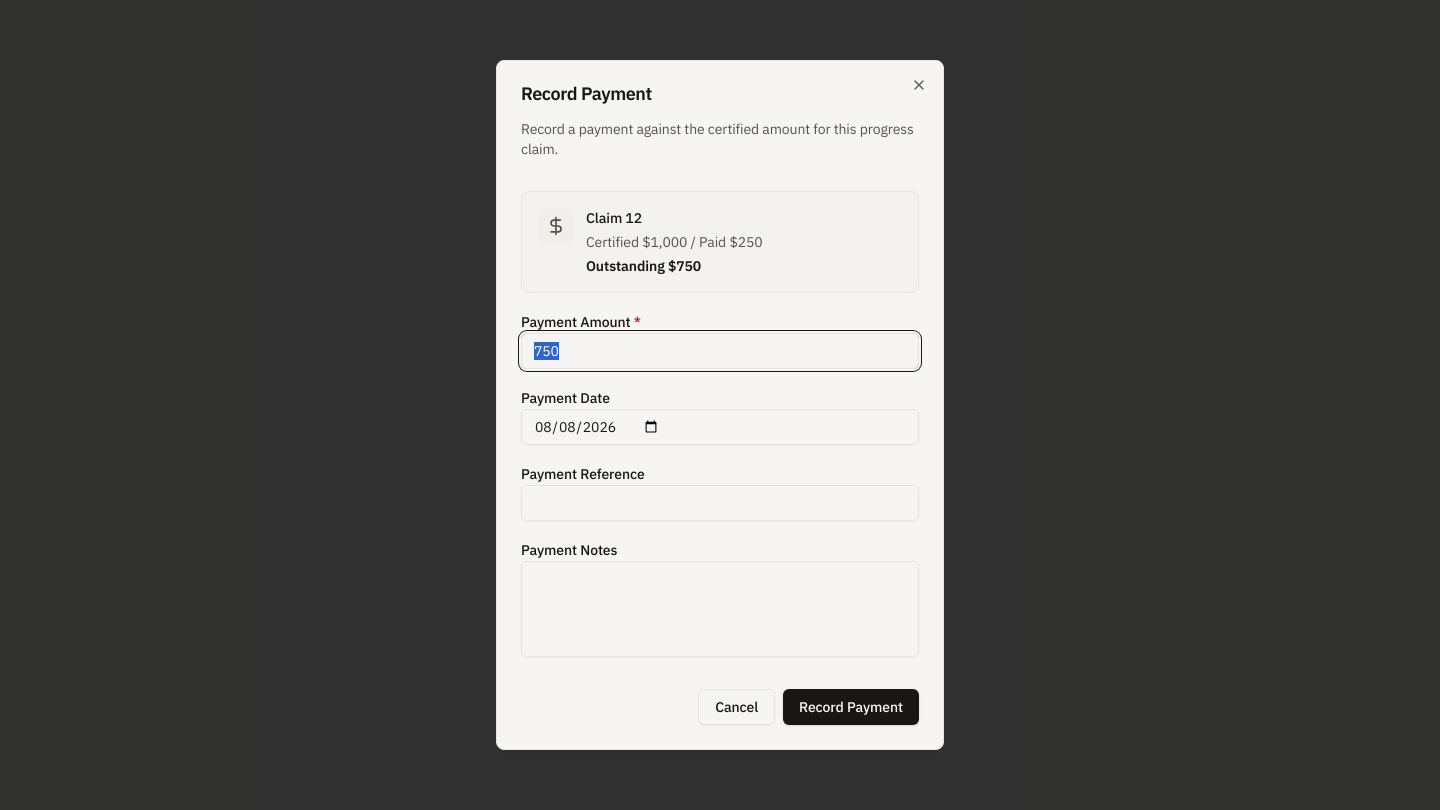
RecordPaymentModal › keeps cancel disabled while payment is recording
The image size is (1440, 810).
Click the button "Record Payment". click: (851, 707)
box: [783,689,919,725]
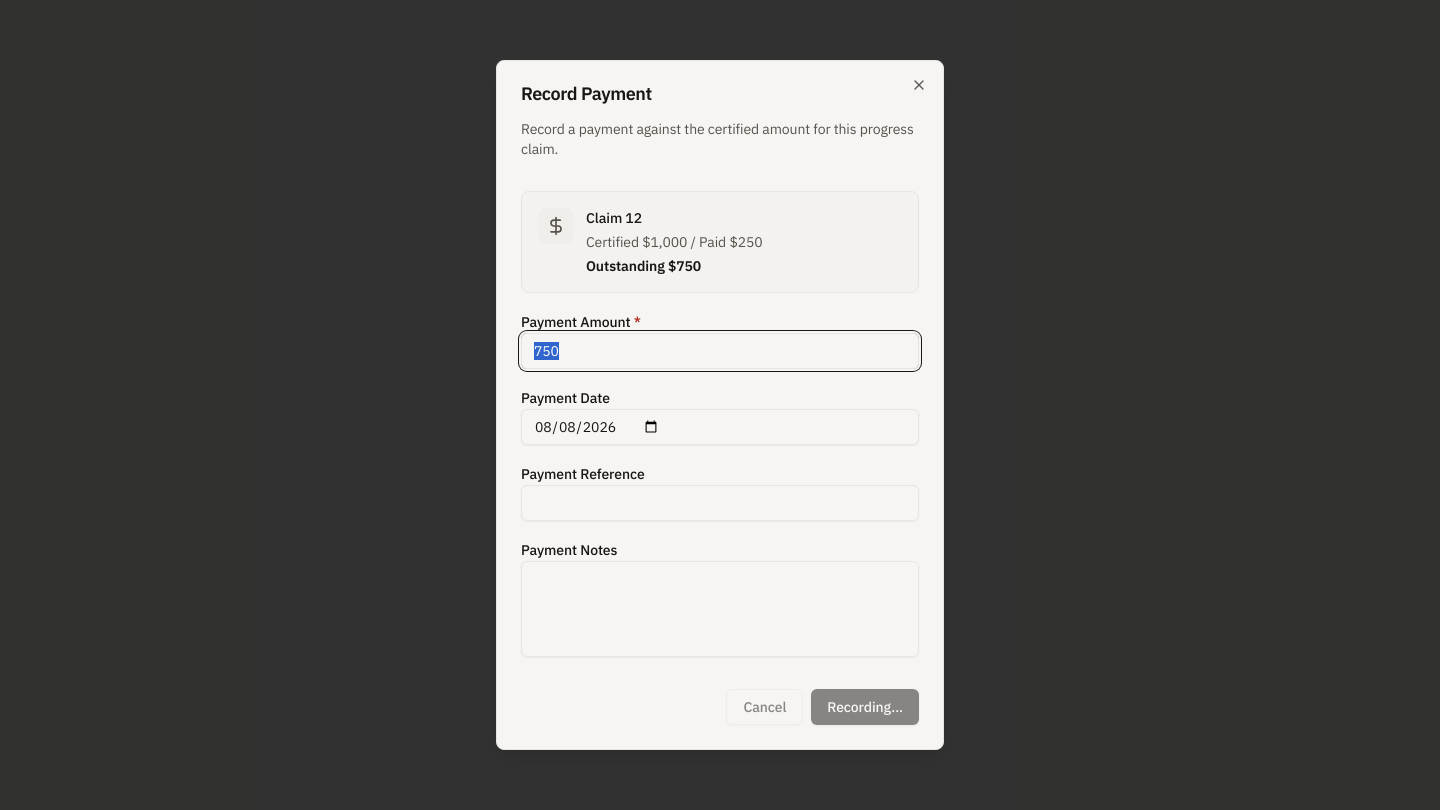
Expected: the button "Cancel" is disabled, [726,689,803,725]
